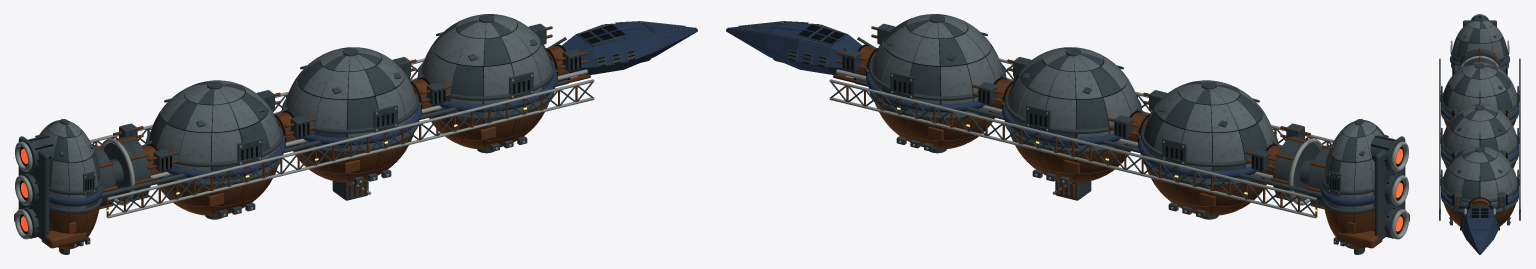
3 views of the same model, side by side, from view 1: azimuth 30°, elevation 25°; view 2: azimuth 150°, elevation 25°; view 3: azimuth 270°, elevation 25° (orthographic). The views are drawn at different scales.
Visible parts, largest first — view 1: Faceted blue-grey command prow, External longitudinal truss chord -1 0.1, External longitudinal truss chord -1 -0.2, Aft machinery drum -3.96, Stern reinforced thrust plate, Cargo 3 formed plate 02-07, Cargo 1 formed plate 02-07, Cargo 2 formed plate 02-07, Blue-grey lateral spine rail -1, Cargo 2 formed plate 02-08, Cargo 1 formed plate 02-08, Cargo 3 formed plate 02-08 (+48 smaller); view 2: Faceted blue-grey command prow, External longitudinal truss chord 1 0.1, External longitudinal truss chord 1 -0.2, Aft machinery drum -3.96, Stern reinforced thrust plate, Cargo 3 formed plate 02-04, Cargo 1 formed plate 02-04, Cargo 2 formed plate 02-04, Blue-grey lateral spine rail 1, Cargo 2 formed plate 02-03, Cargo 1 formed plate 02-03, Cargo 3 formed plate 02-03 (+48 smaller); view 3: Faceted blue-grey command prow, Cargo 3 formed plate 02-00, Cargo 3 formed plate 02-11, External longitudinal truss chord -1 0.1, External longitudinal truss chord 1 0.1, Aft machinery drum -4.58, Cargo 3 equatorial reinforcement 0, Cargo 3 formed plate 02-01, Cargo 3 formed plate 02-10, Cargo 2 formed plate 02-01, Cargo 2 formed plate 02-10, Cargo 1 formed plate 02-01 (+79 smaller).
Part boxes in pixels (x1,y1,x2,y2): Faceted blue-grey command prow: [562, 22, 697, 74]; External longitudinal truss chord -1 0.1: [107, 79, 594, 200]; External longitudinal truss chord -1 -0.2: [107, 97, 594, 218]; Aft machinery drum -3.96: [104, 136, 150, 200]; Stern reinforced thrust plate: [18, 136, 49, 241]; Cargo 3 formed plate 02-07: [451, 64, 483, 96]; Cargo 1 formed plate 02-07: [179, 131, 211, 162]; Cargo 2 formed plate 02-07: [315, 97, 347, 129]; Blue-grey lateral spine rail -1: [101, 79, 568, 197]; Cargo 2 formed plate 02-08: [347, 96, 377, 129]; Cargo 1 formed plate 02-08: [211, 129, 241, 162]; Cargo 3 formed plate 02-08: [483, 63, 513, 96]; Faceted blue-grey command prow: [726, 22, 861, 74]; External longitudinal truss chord 1 0.1: [829, 79, 1316, 200]; External longitudinal truss chord 1 -0.2: [829, 97, 1316, 218]; Aft machinery drum -3.96: [1273, 136, 1319, 200]; Stern reinforced thrust plate: [1374, 136, 1405, 241]; Cargo 3 formed plate 02-04: [940, 64, 972, 96]; Cargo 1 formed plate 02-04: [1212, 131, 1244, 162]; Cargo 2 formed plate 02-04: [1076, 97, 1108, 129]; Blue-grey lateral spine rail 1: [855, 79, 1322, 197]; Cargo 2 formed plate 02-03: [1046, 96, 1076, 129]; Cargo 1 formed plate 02-03: [1182, 129, 1212, 162]; Cargo 3 formed plate 02-03: [910, 63, 940, 96]; Faceted blue-grey command prow: [1461, 206, 1498, 254]; Cargo 3 formed plate 02-00: [1480, 179, 1497, 199]; Cargo 3 formed plate 02-11: [1462, 179, 1479, 199]; External longitudinal truss chord -1 0.1: [1439, 58, 1440, 209]; External longitudinal truss chord 1 0.1: [1519, 58, 1520, 209]; Aft machinery drum -4.58: [1460, 49, 1499, 66]; Cargo 3 equatorial reinforcement 0: [1441, 190, 1518, 209]; Cargo 3 formed plate 02-01: [1495, 174, 1512, 194]; Cargo 3 formed plate 02-10: [1447, 174, 1464, 194]; Cargo 2 formed plate 02-01: [1495, 132, 1512, 152]; Cargo 2 formed plate 02-10: [1447, 132, 1464, 152]; Cargo 1 formed plate 02-01: [1495, 90, 1512, 110].
Bounding box in the file's own units: 11.93 × 2.41 × 2.01.
9 materials, 7 textured.
